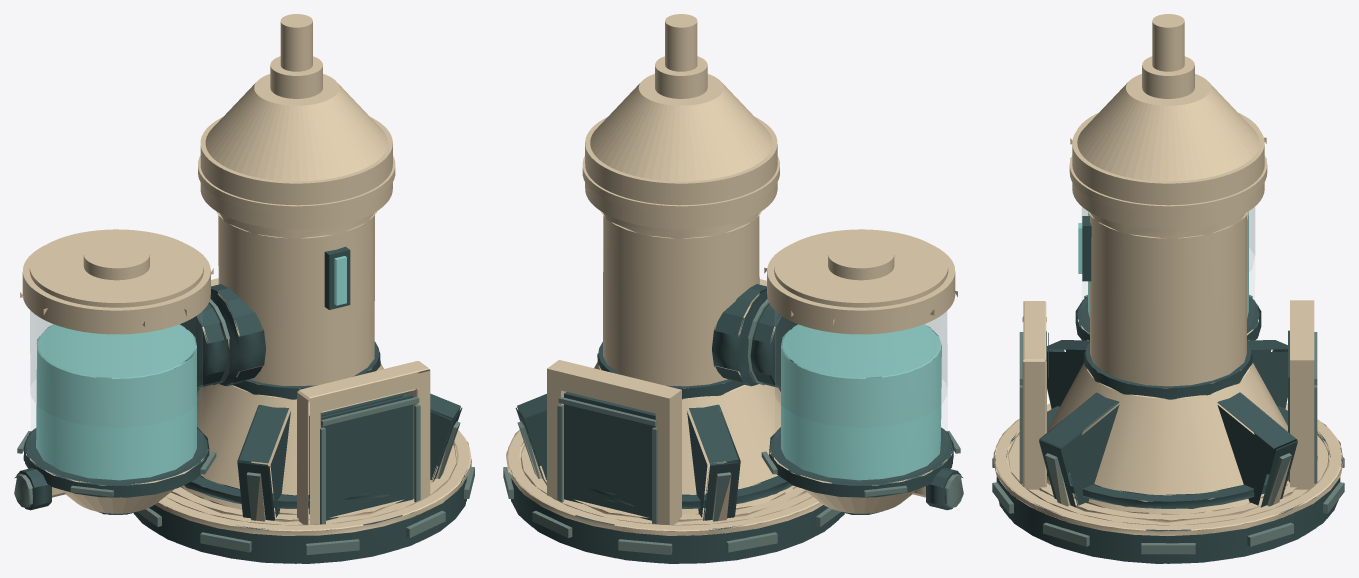
Rendered from Vat_T1.glb.
The picture shows the model from 3 angles, left to right: view 1: azimuth 30°, elevation 25°; view 2: azimuth 150°, elevation 25°; view 3: azimuth 270°, elevation 25°; orthographic projection.
Parts seen in each view (by area): view 1: Vat_T1; view 2: Vat_T1; view 3: Vat_T1.
Boxes of the visible parts, x1,y1,x2,y2 form: Vat_T1: (14,14,474,563); Vat_T1: (503,14,963,563); Vat_T1: (992,14,1344,563).
Size of the model in its own units: 4.88 by 5.21 by 3.47.
